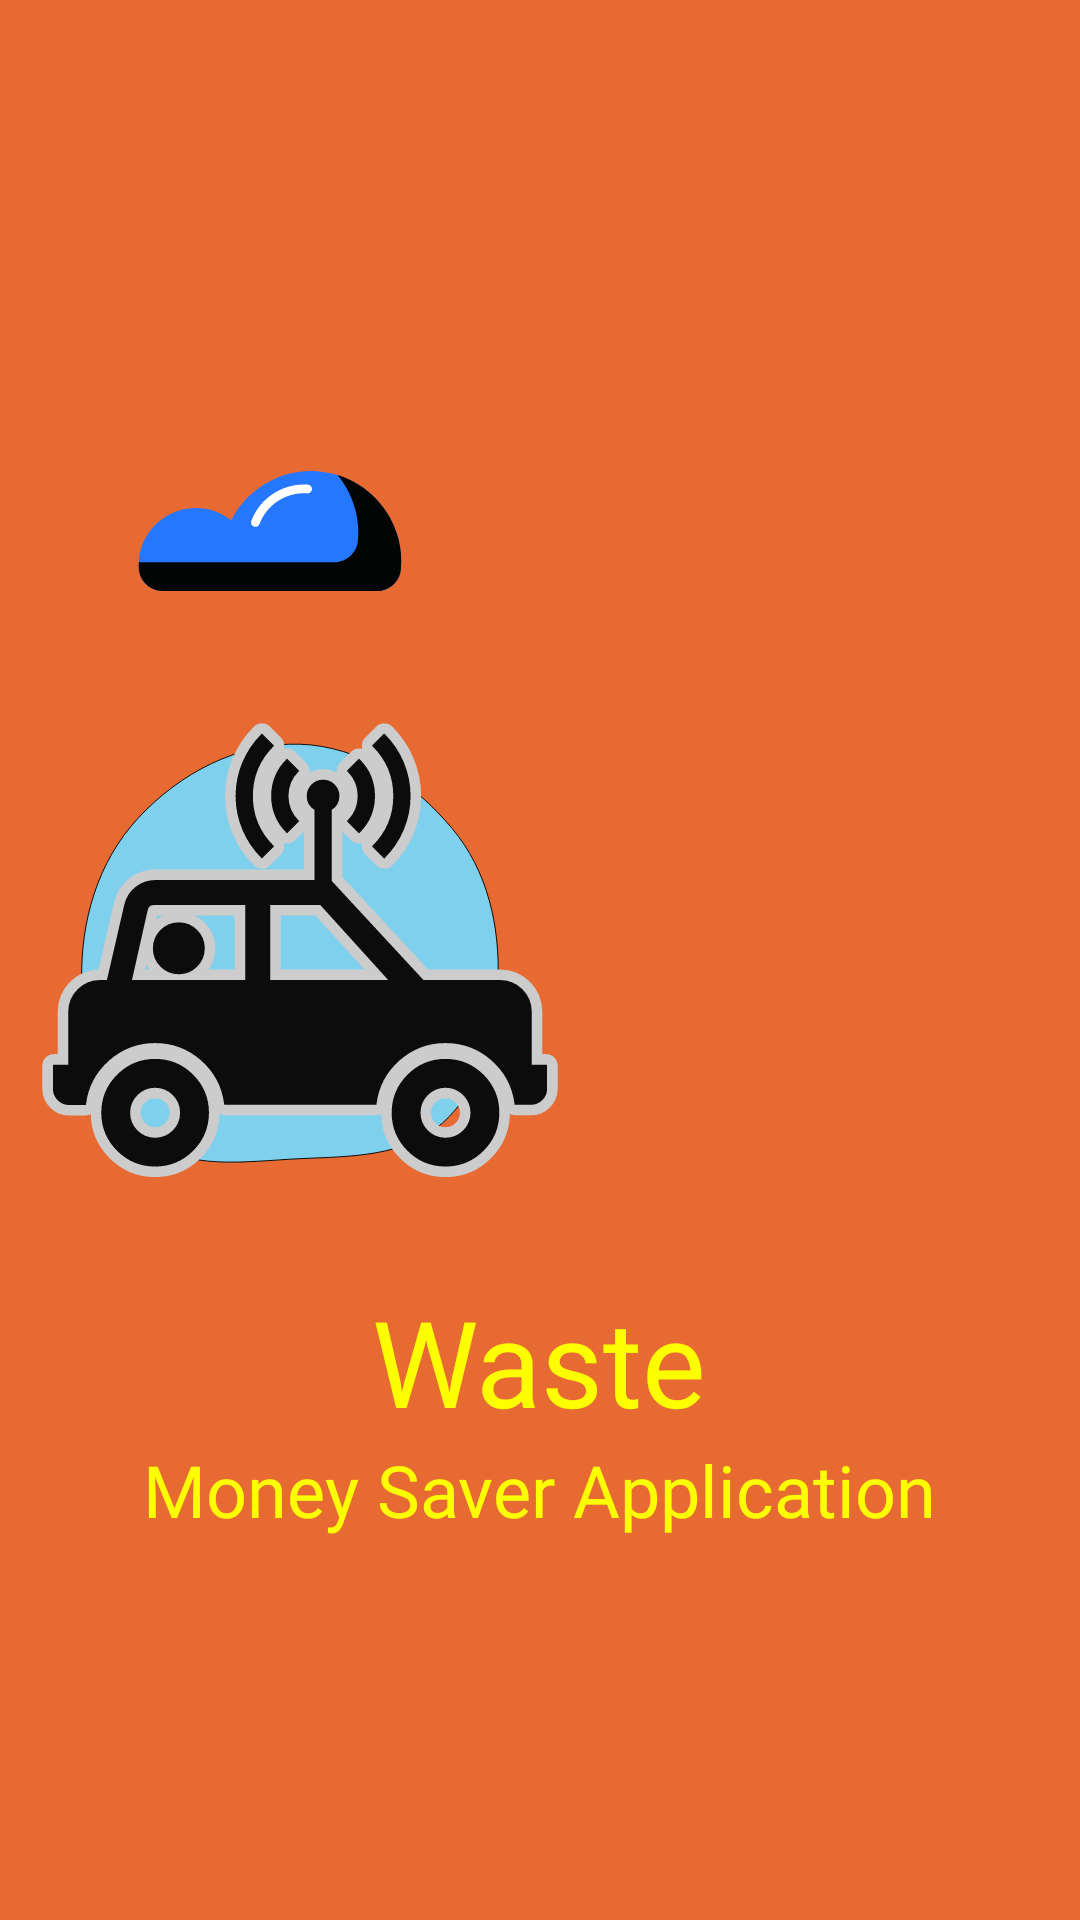

Where icons sit on this 1080*1920 app screen, as (x1, y1, x2, y2):
cloud service: (138, 471, 402, 591)
